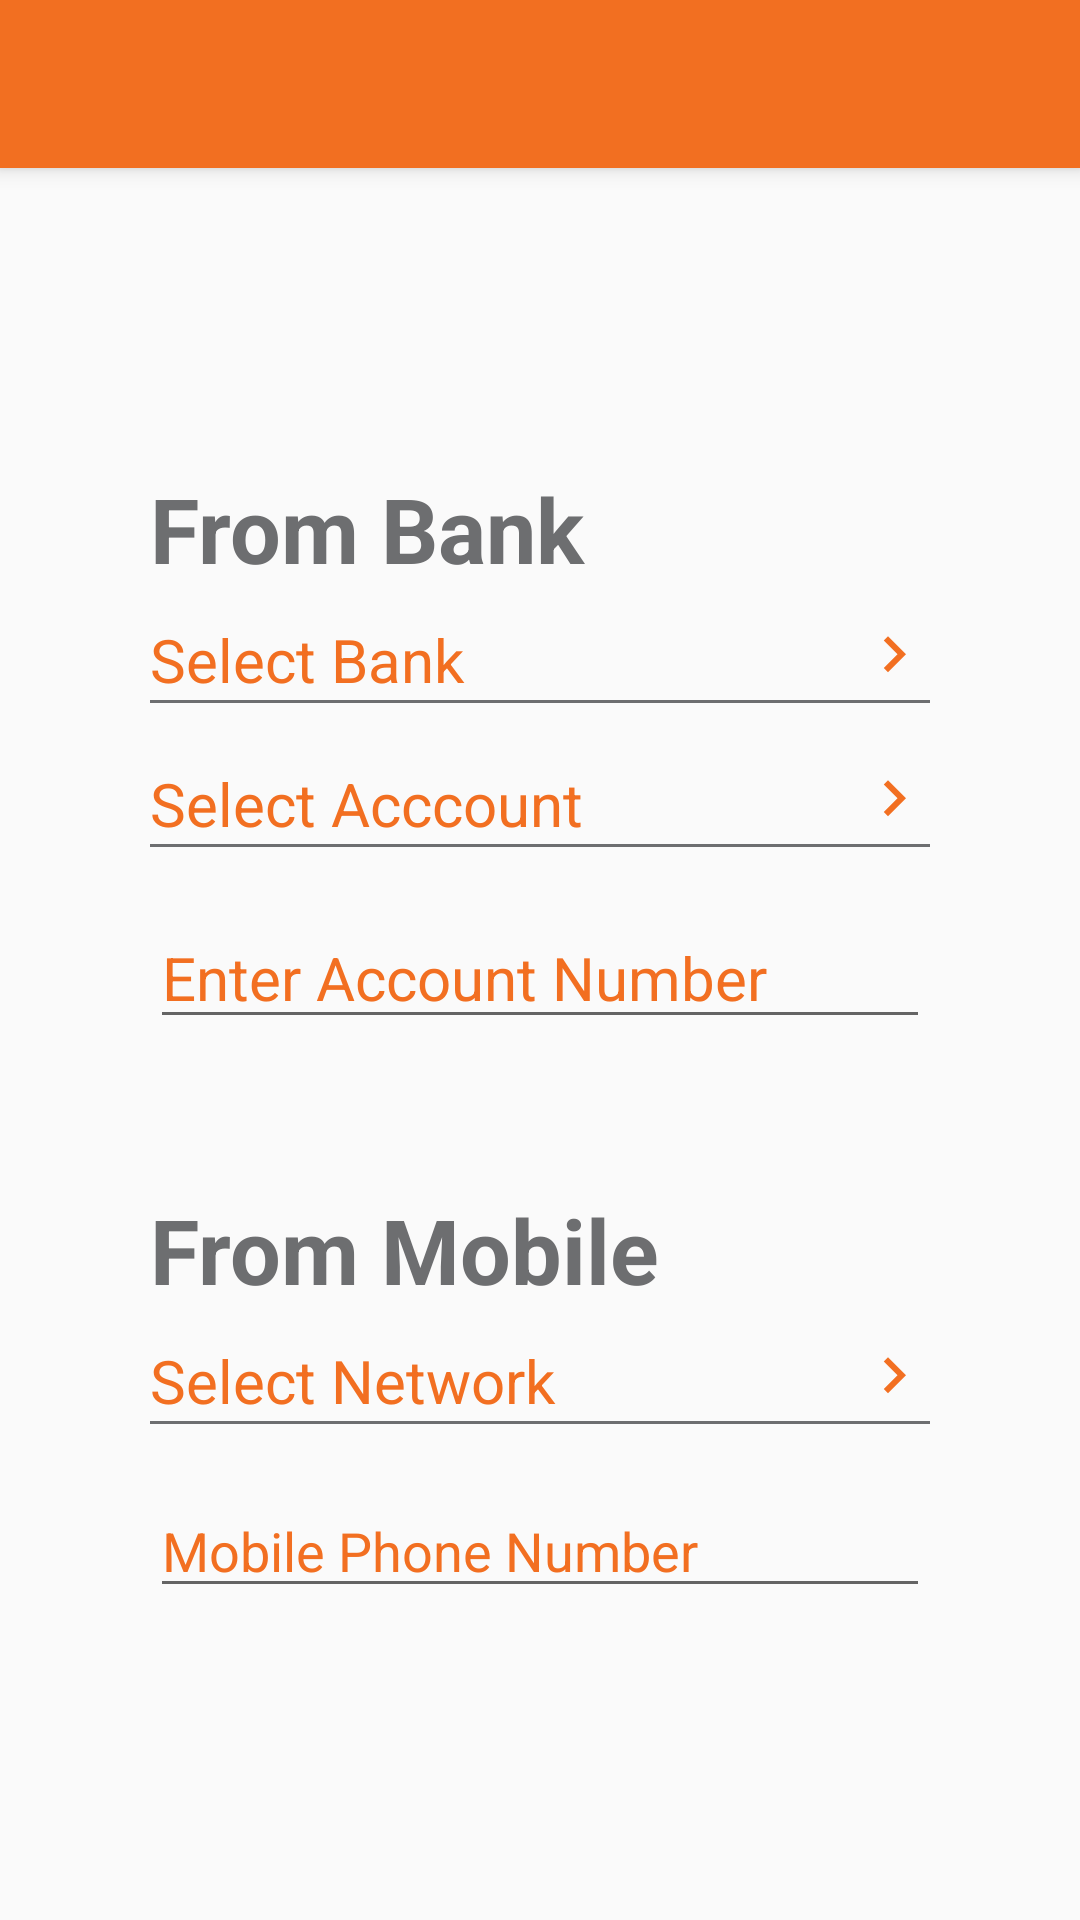

Icon bounding boxes for this 1080px×1920px phone screenshot, format {"left": x1, "top": y1, "right": x2, "bottom": y2}:
arrow right: {"left": 884, "top": 636, "right": 906, "bottom": 672}, {"left": 884, "top": 780, "right": 906, "bottom": 816}, {"left": 884, "top": 1357, "right": 906, "bottom": 1393}
